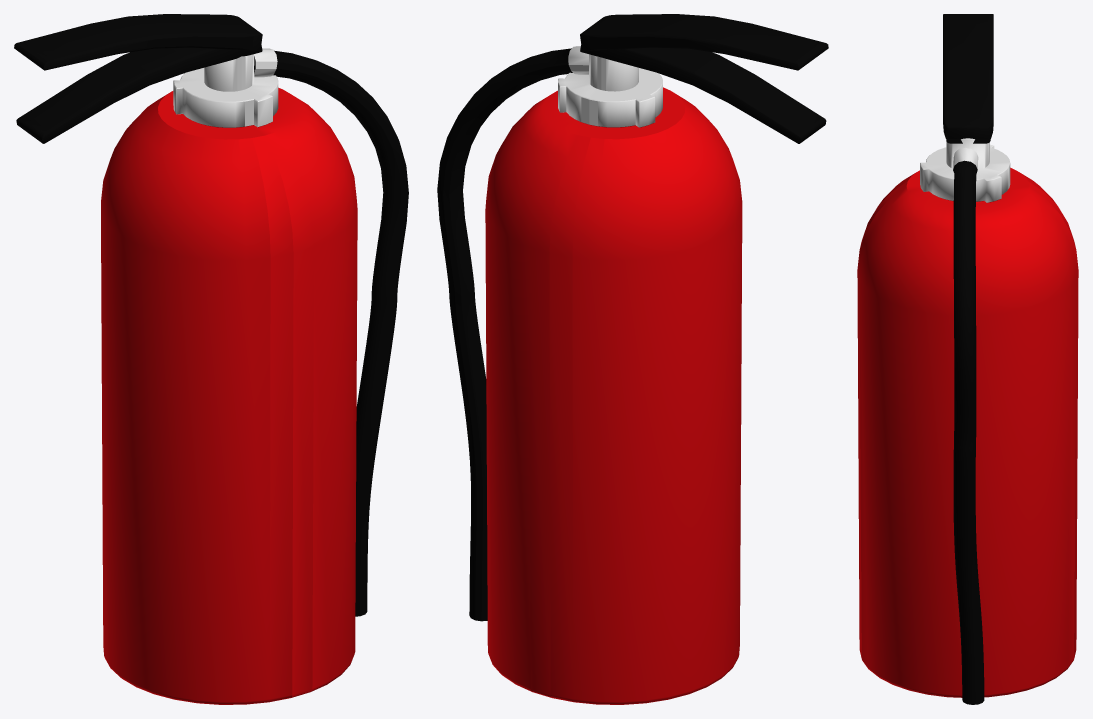
Rendered from fireEX.fbx.
3 renders of one model, left to right at view 1: azimuth 30°, elevation 25°; view 2: azimuth 150°, elevation 25°; view 3: azimuth 270°, elevation 25°, orthographic. The views are drawn at different scales.
Parts seen in each view (by area): view 1: 큐브; view 2: 큐브; view 3: 큐브.
Boxes of the visible parts, x1=… form: 큐브: x1=14, y1=14, x2=408, y2=704; 큐브: x1=437, y1=14, x2=828, y2=704; 큐브: x1=857, y1=14, x2=1078, y2=704.
Size of the model in its own units: 338 by 558 by 200.
